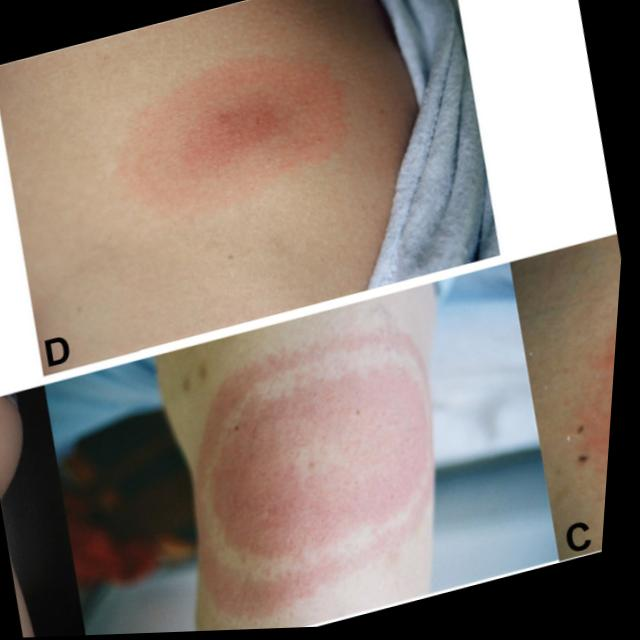Erythema migrans: (166, 320, 490, 622), (74, 0, 404, 276)
